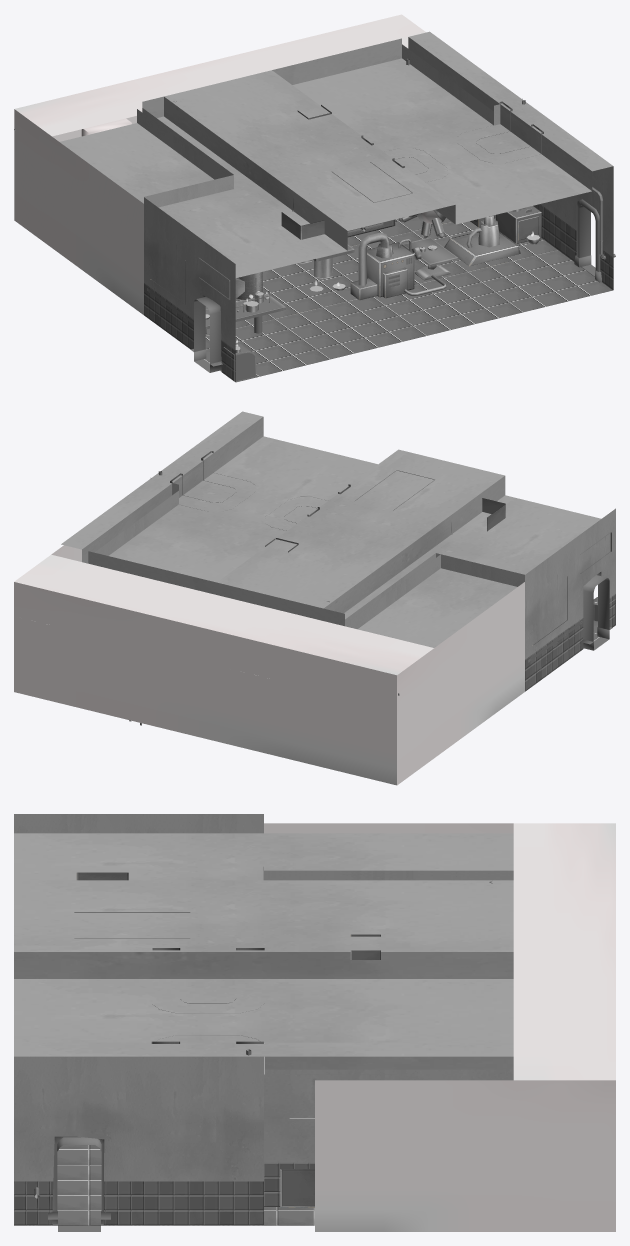
File: MSH_Science_Lab_room_L3_R2_optimized.fbx
3 views of the same model, one above another, from view 1: azimuth 30°, elevation 25°; view 2: azimuth 150°, elevation 25°; view 3: azimuth 270°, elevation 25° (orthographic). The views are drawn at different scales.
Parts seen in each view (by area): view 1: lightmap0, lightmap1, lightmap-1; view 2: lightmap0, lightmap-1, lightmap1; view 3: lightmap0, lightmap1, lightmap-1.
Part boxes in pixels (bbox=[...]): lightmap0: bbox=[14, 14, 613, 382]; lightmap1: bbox=[81, 58, 615, 381]; lightmap-1: bbox=[194, 205, 595, 372]; lightmap0: bbox=[14, 411, 615, 785]; lightmap-1: bbox=[583, 575, 609, 650]; lightmap1: bbox=[158, 470, 615, 662]; lightmap0: bbox=[14, 814, 615, 1231]; lightmap1: bbox=[34, 872, 492, 1207]; lightmap-1: bbox=[57, 1137, 101, 1231].
Bounding box in the file's own units: 20.61 × 6.47 × 19.9.
Materials: 7 (7 with a texture image).
